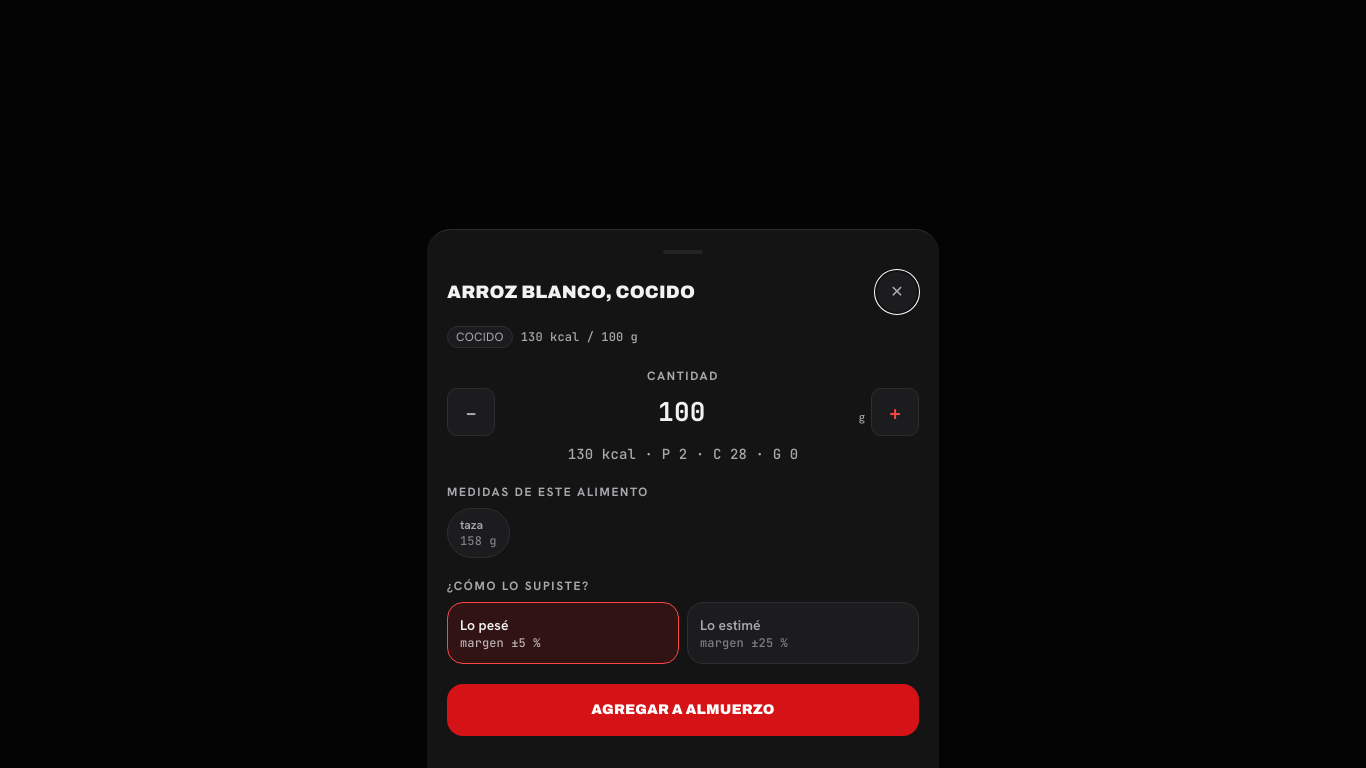
Test: SheetCantidad › avisos de tope › avisa al pasarse, pero NO bloquea el registro
Replace the text in the field named "Cantidad en g" with "2000" at x=682, y=412, box [501, 390, 863, 434]
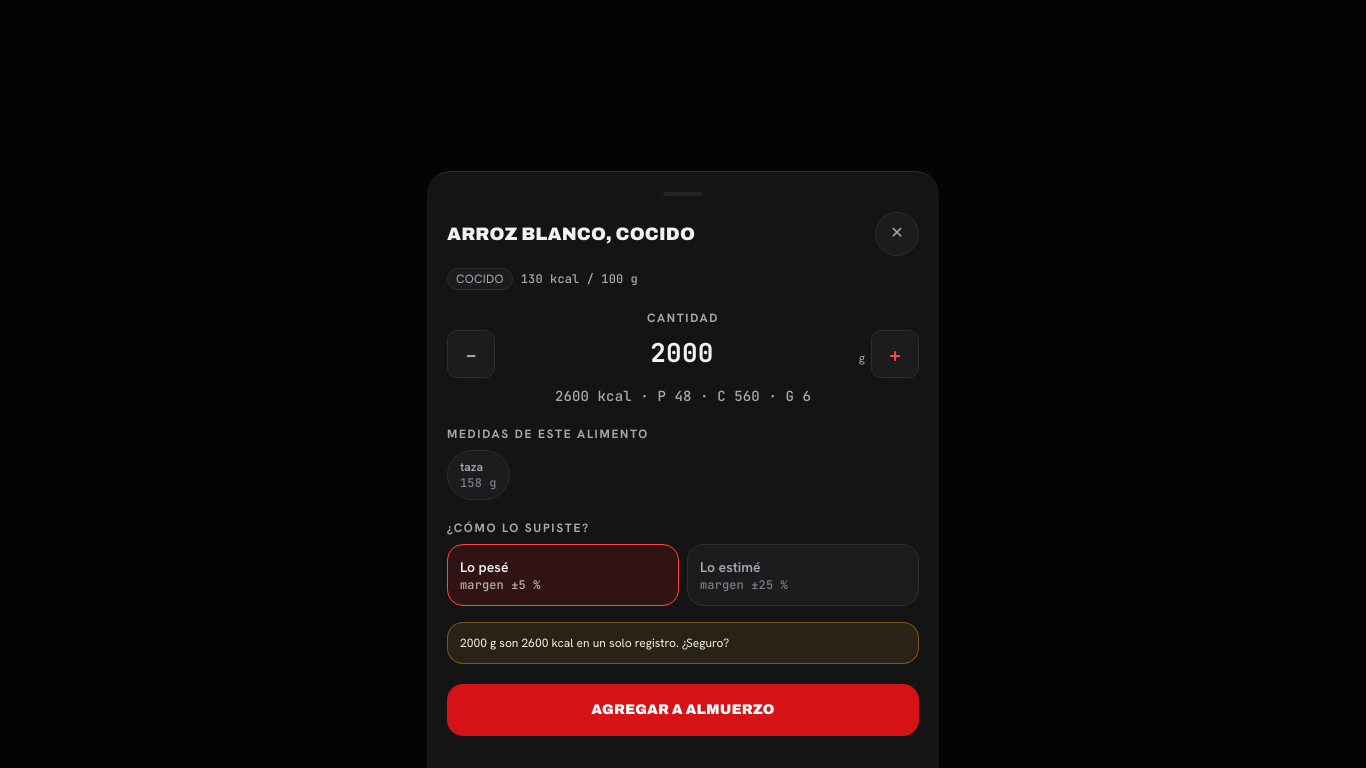
Expected: the button "Agregar a Almuerzo" is enabled, [447, 684, 919, 736]
Expected: the message "2000 g son 2600 kcal en un solo registro. ¿Seguro?" is shown, [447, 622, 919, 664]
